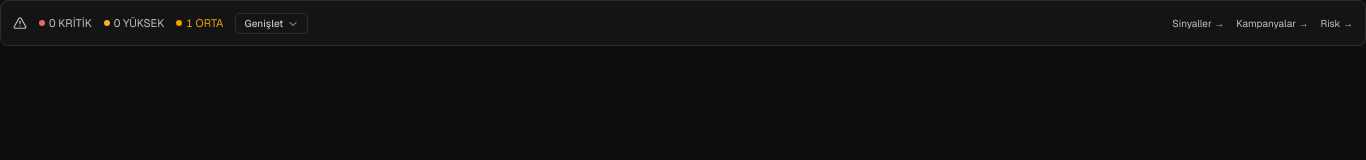
Test: AlertCenter › renders a row with no drill-down as text rather than a dead link
Click the button "Genişlet" at (272, 23), box x1=236 y1=12 x2=308 y2=34
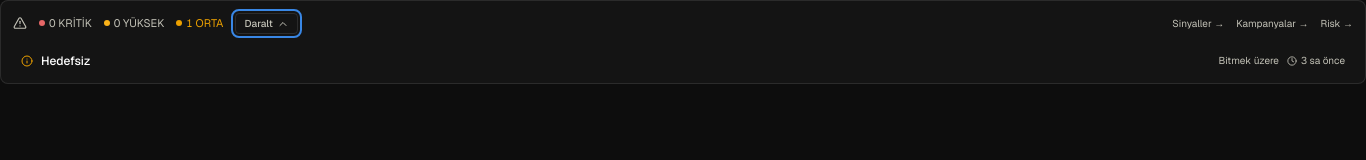
Expected: the text "Hedefsiz" is shown, x1=41 y1=53 x2=90 y2=69
